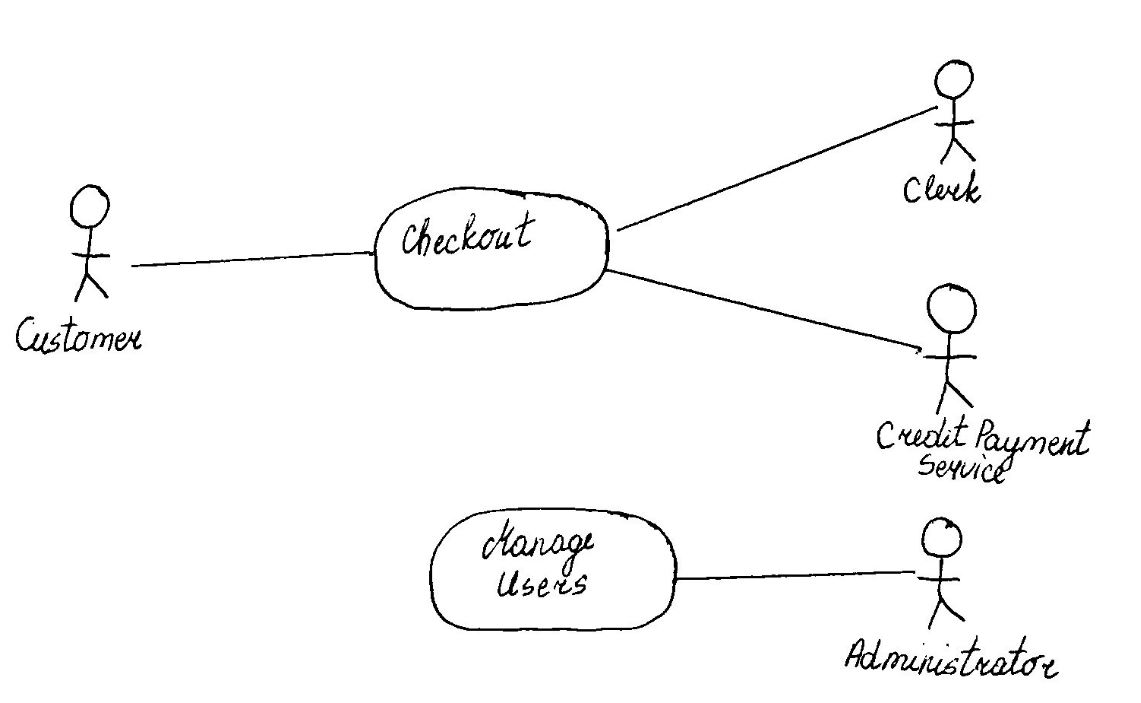actor: (917, 280, 983, 414), (908, 509, 972, 632), (60, 179, 115, 304), (929, 54, 982, 166)
association: (617, 103, 937, 233), (612, 271, 921, 351), (129, 229, 372, 282), (679, 556, 917, 595)
text: (865, 414, 1103, 487), (842, 632, 1071, 685), (476, 521, 603, 603), (398, 209, 545, 263), (8, 318, 155, 362), (875, 164, 993, 214)
use_case: (425, 504, 677, 635), (370, 184, 612, 312)
